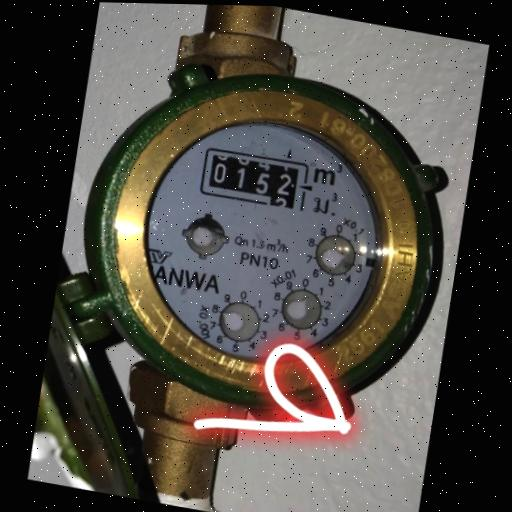0: (208, 152, 234, 188)
1: (228, 156, 253, 192)
2: (267, 163, 298, 209)
5: (248, 160, 275, 197)
border_water_meter_number: (196, 143, 311, 213)
